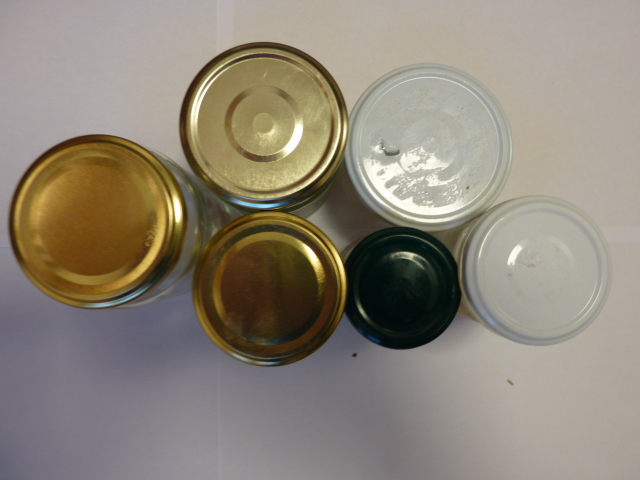damaged: (340, 61, 514, 232)
intact: (7, 135, 185, 310), (180, 40, 348, 209), (344, 228, 464, 352)
